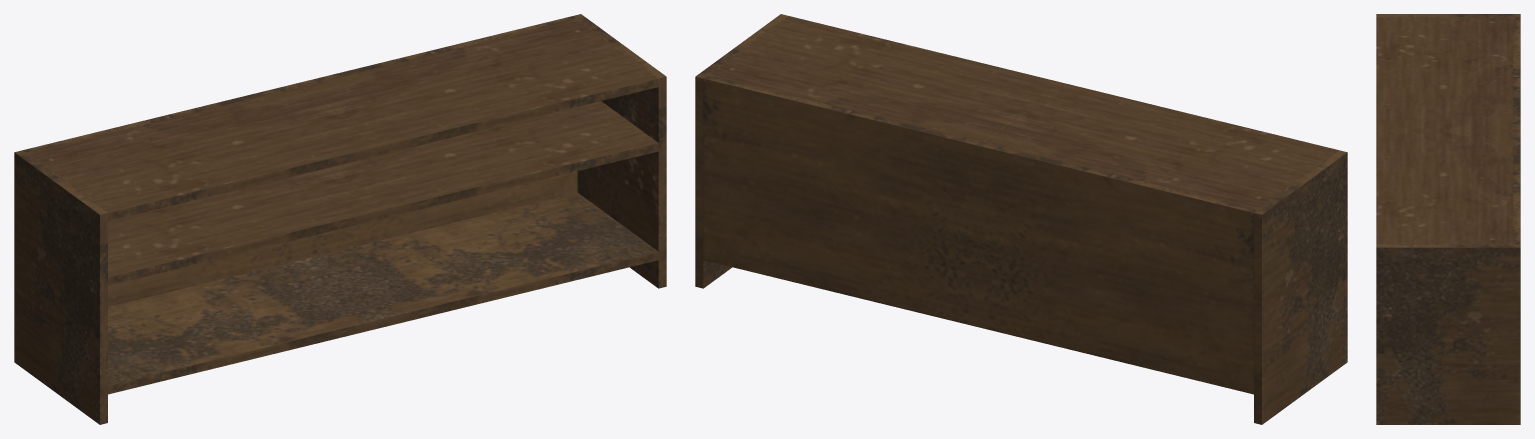
File: tv_cabinet.glb
3 renders of one model, left to right at view 1: azimuth 30°, elevation 25°; view 2: azimuth 150°, elevation 25°; view 3: azimuth 270°, elevation 25°, orthographic. The views are drawn at different scales.
Visible parts, largest first — view 1: tv_cabinet; view 2: tv_cabinet; view 3: tv_cabinet.
Part boxes in pixels (box(x1,y1,x2,y2)): tv_cabinet: box(14, 14, 666, 424); tv_cabinet: box(695, 14, 1347, 424); tv_cabinet: box(1376, 14, 1520, 424).
Bounding box in the file's own units: 1.06 × 0.3762 × 0.2779.
Materials: 1 (1 with a texture image).
